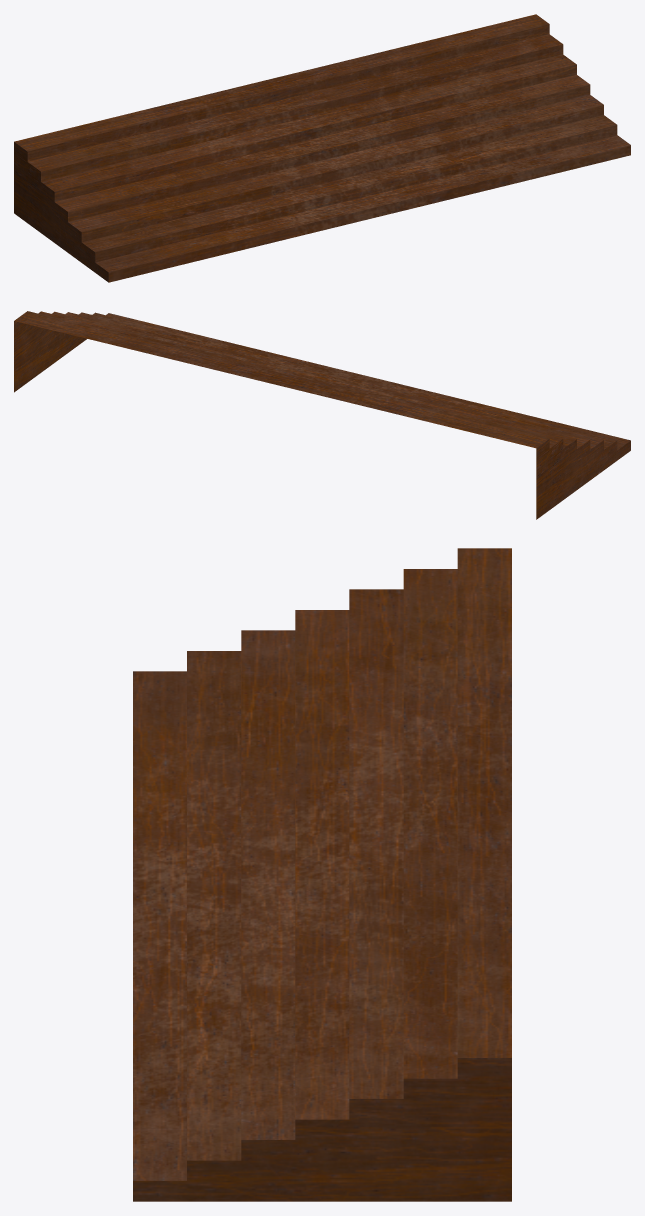
File: Stairs.fbx
The picture shows the model from 3 angles, top to bottom: view 1: azimuth 30°, elevation 25°; view 2: azimuth 150°, elevation 25°; view 3: azimuth 270°, elevation 25°; orthographic projection. The views are drawn at different scales.
Parts seen in each view (by area): view 1: Stairs; view 2: Stairs; view 3: Stairs.
Part boxes in pixels (x1,y1,x2,y2): Stairs: (14, 14, 630, 282); Stairs: (14, 311, 630, 519); Stairs: (133, 548, 511, 1201).
Size of the model in its own units: 473 by 62 by 149.
